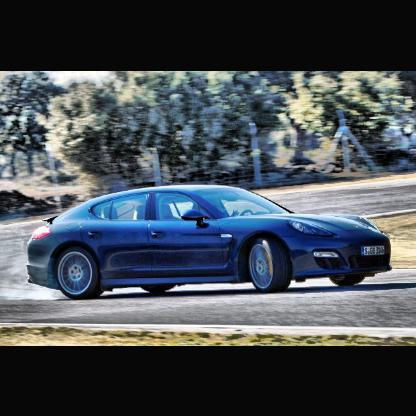Porsche Panamera Sedan 2012: (28, 184, 397, 303)
